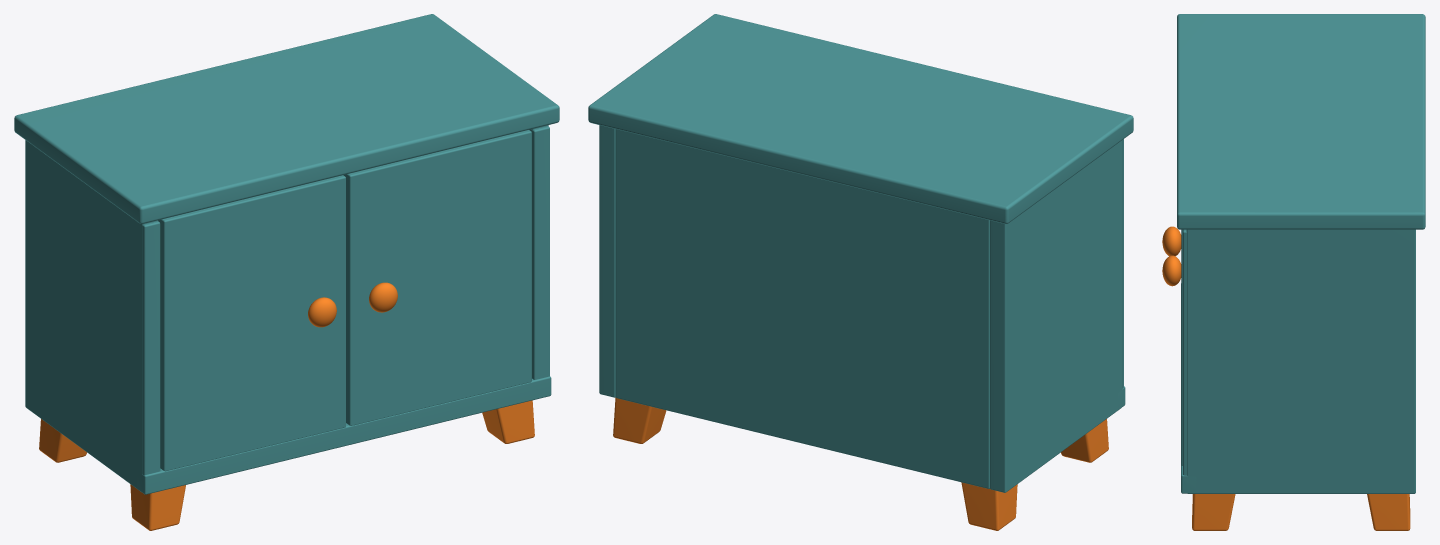
The picture shows the model from 3 angles, left to right: view 1: azimuth 30°, elevation 25°; view 2: azimuth 150°, elevation 25°; view 3: azimuth 270°, elevation 25°; orthographic projection. The views are drawn at different scales.
Visible parts, largest first — view 1: reused_Overhanging flat top, reused_Left door, reused_Right door, reused_Left side panel, reused_Front bottom rail, reused_Left front stile, reused_Right front stile, reused_Left front orange foot, reused_Right front orange foot, reused_Left rear orange foot, reused_Right round orange knob, reused_Left round orange knob; view 2: reused_Plain full back, reused_Overhanging flat top, reused_Left side panel, reused_Right side panel, reused_Left rear orange foot, reused_Right rear orange foot, reused_Left front orange foot; view 3: reused_Right side panel, reused_Overhanging flat top, reused_Right rear orange foot, reused_Right front orange foot, reused_Right front stile, reused_Right round orange knob, reused_Left round orange knob, reused_Front bottom rail, reused_Right door.
Part boxes in pixels (x1,y1,x2,y2): reused_Overhanging flat top: [14, 14, 559, 223]; reused_Left door: [158, 175, 345, 471]; reused_Right door: [343, 130, 531, 425]; reused_Left side panel: [25, 140, 157, 491]; reused_Front bottom rail: [137, 376, 551, 494]; reused_Left front stile: [142, 221, 160, 475]; reused_Right front stile: [529, 126, 549, 379]; reused_Left front orange foot: [130, 484, 185, 530]; reused_Right front orange foot: [482, 400, 534, 443]; reused_Left rear orange foot: [39, 419, 86, 462]; reused_Right round orange knob: [369, 282, 397, 312]; reused_Left round orange knob: [308, 297, 336, 327]; reused_Plain full back: [615, 129, 989, 488]; reused_Overhanging flat top: [588, 14, 1133, 223]; reused_Left side panel: [990, 140, 1122, 492]; reused_Right side panel: [599, 125, 615, 397]; reused_Left rear orange foot: [961, 482, 1017, 530]; reused_Right rear orange foot: [613, 397, 666, 443]; reused_Left front orange foot: [1061, 419, 1108, 462]; reused_Right side panel: [1186, 229, 1415, 493]; reused_Overhanging flat top: [1177, 14, 1425, 229]; reused_Right rear orange foot: [1367, 494, 1410, 530]; reused_Right front orange foot: [1192, 494, 1235, 530]; reused_Right front stile: [1183, 229, 1186, 475]; reused_Right round orange knob: [1162, 255, 1181, 286]; reused_Left round orange knob: [1162, 226, 1181, 256]; reused_Front bottom rail: [1181, 283, 1196, 493]; reused_Right door: [1181, 229, 1182, 465].
Size of the model in its own units: 1.24 by 0.942 by 0.688.
